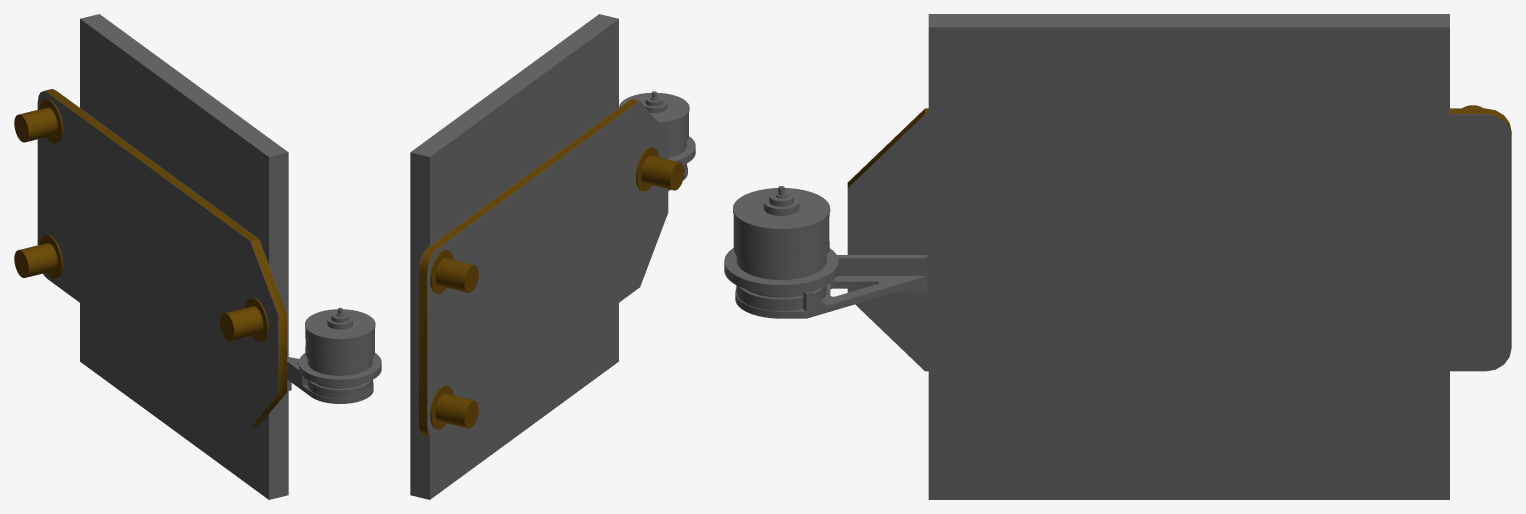
Rendered from FGST-KuAntenna.obj.
3 renders of one model, left to right at view 1: azimuth 30°, elevation 25°; view 2: azimuth 150°, elevation 25°; view 3: azimuth 270°, elevation 25°, orthographic. The views are drawn at different scales.
Visible parts, largest first — view 1: DM_160589_13_1_PRT, a_501296_1_PRT, DM_160589_11_1_PRT, MANIFOLD_SOLID_BREP_1423_1_PRT, DM_160587_002_1_PRT__2_0_0_0, DM_160587_002_1_PRT, DM_160587_002_1_PRT__4_0_0_0, MANIFOLD_SOLID_BREP_1433_1_PRT, MANIFOLD_SOLID_BREP_1422_1_PRT, OUTPUT_FLANGE_1_PRT, MANIFOLD_SOLID_BREP_1431_1_PRT, MANIFOLD_SOLID_BREP_1427_1_PRT; view 2: DM_160589_13_1_PRT, a_501296_1_PRT, DM_160589_11_1_PRT, DM_160587_002_1_PRT__4_0_0_0, DM_160587_002_1_PRT, DM_160587_002_1_PRT__2_0_0_0, MANIFOLD_SOLID_BREP_1433_1_PRT, MANIFOLD_SOLID_BREP_1423_1_PRT, MANIFOLD_SOLID_BREP_1422_1_PRT, DM_160589_12_1_PRT; view 3: a_501296_1_PRT, DM_160589_12_1_PRT, OUTPUT_FLANGE_1_PRT, MANIFOLD_SOLID_BREP_1423_1_PRT, MANIFOLD_SOLID_BREP_1433_1_PRT, MANIFOLD_SOLID_BREP_1422_1_PRT, MANIFOLD_SOLID_BREP_1431_1_PRT, DM_160589_11_1_PRT.
Boxes of the visible parts, bbox=[...] form: DM_160589_13_1_PRT: bbox=[37, 91, 278, 427]; a_501296_1_PRT: bbox=[80, 14, 288, 499]; DM_160589_11_1_PRT: bbox=[44, 89, 286, 427]; MANIFOLD_SOLID_BREP_1423_1_PRT: bbox=[298, 347, 381, 382]; DM_160587_002_1_PRT__2_0_0_0: bbox=[14, 99, 62, 143]; DM_160587_002_1_PRT: bbox=[220, 298, 268, 341]; DM_160587_002_1_PRT__4_0_0_0: bbox=[14, 234, 62, 278]; MANIFOLD_SOLID_BREP_1433_1_PRT: bbox=[305, 309, 375, 340]; MANIFOLD_SOLID_BREP_1422_1_PRT: bbox=[305, 328, 374, 361]; OUTPUT_FLANGE_1_PRT: bbox=[287, 356, 373, 403]; MANIFOLD_SOLID_BREP_1431_1_PRT: bbox=[307, 380, 372, 398]; MANIFOLD_SOLID_BREP_1427_1_PRT: bbox=[299, 365, 381, 386]; DM_160589_13_1_PRT: bbox=[427, 101, 668, 437]; a_501296_1_PRT: bbox=[410, 14, 618, 499]; DM_160589_11_1_PRT: bbox=[419, 99, 639, 436]; DM_160587_002_1_PRT__4_0_0_0: bbox=[430, 385, 478, 429]; DM_160587_002_1_PRT: bbox=[636, 147, 684, 191]; DM_160587_002_1_PRT__2_0_0_0: bbox=[430, 249, 478, 293]; MANIFOLD_SOLID_BREP_1433_1_PRT: bbox=[619, 92, 689, 123]; MANIFOLD_SOLID_BREP_1423_1_PRT: bbox=[668, 132, 695, 162]; MANIFOLD_SOLID_BREP_1422_1_PRT: bbox=[660, 112, 688, 143]; DM_160589_12_1_PRT: bbox=[418, 99, 630, 434]; a_501296_1_PRT: bbox=[928, 14, 1449, 499]; DM_160589_12_1_PRT: bbox=[847, 114, 1511, 371]; OUTPUT_FLANGE_1_PRT: bbox=[735, 255, 927, 318]; MANIFOLD_SOLID_BREP_1423_1_PRT: bbox=[724, 241, 838, 288]; MANIFOLD_SOLID_BREP_1433_1_PRT: bbox=[733, 188, 830, 231]; MANIFOLD_SOLID_BREP_1422_1_PRT: bbox=[733, 214, 829, 259]; MANIFOLD_SOLID_BREP_1431_1_PRT: bbox=[736, 285, 826, 310]; DM_160589_11_1_PRT: bbox=[847, 108, 1511, 187].
Bounding box in the file's own units: 0.1631 × 0.5138 × 0.7756.
